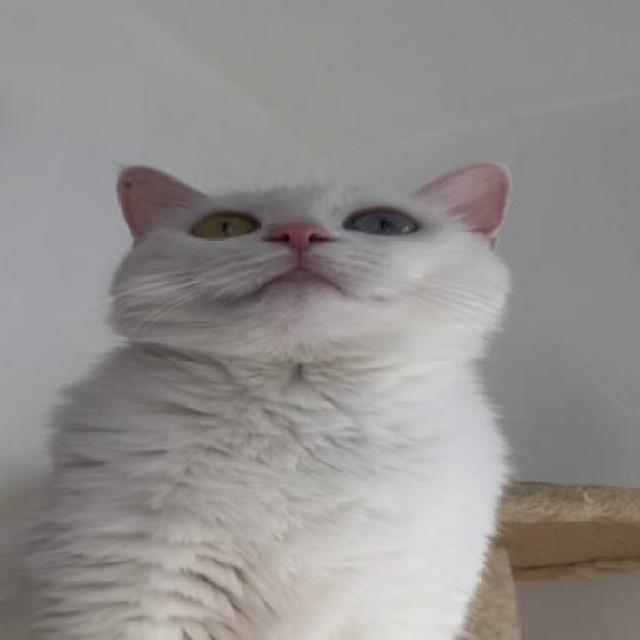cat-face: (90, 151, 522, 352)
